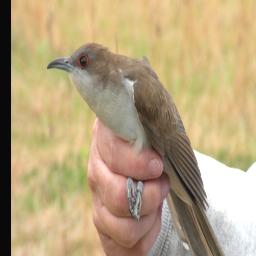Cuckoo: (46, 41, 249, 256)
